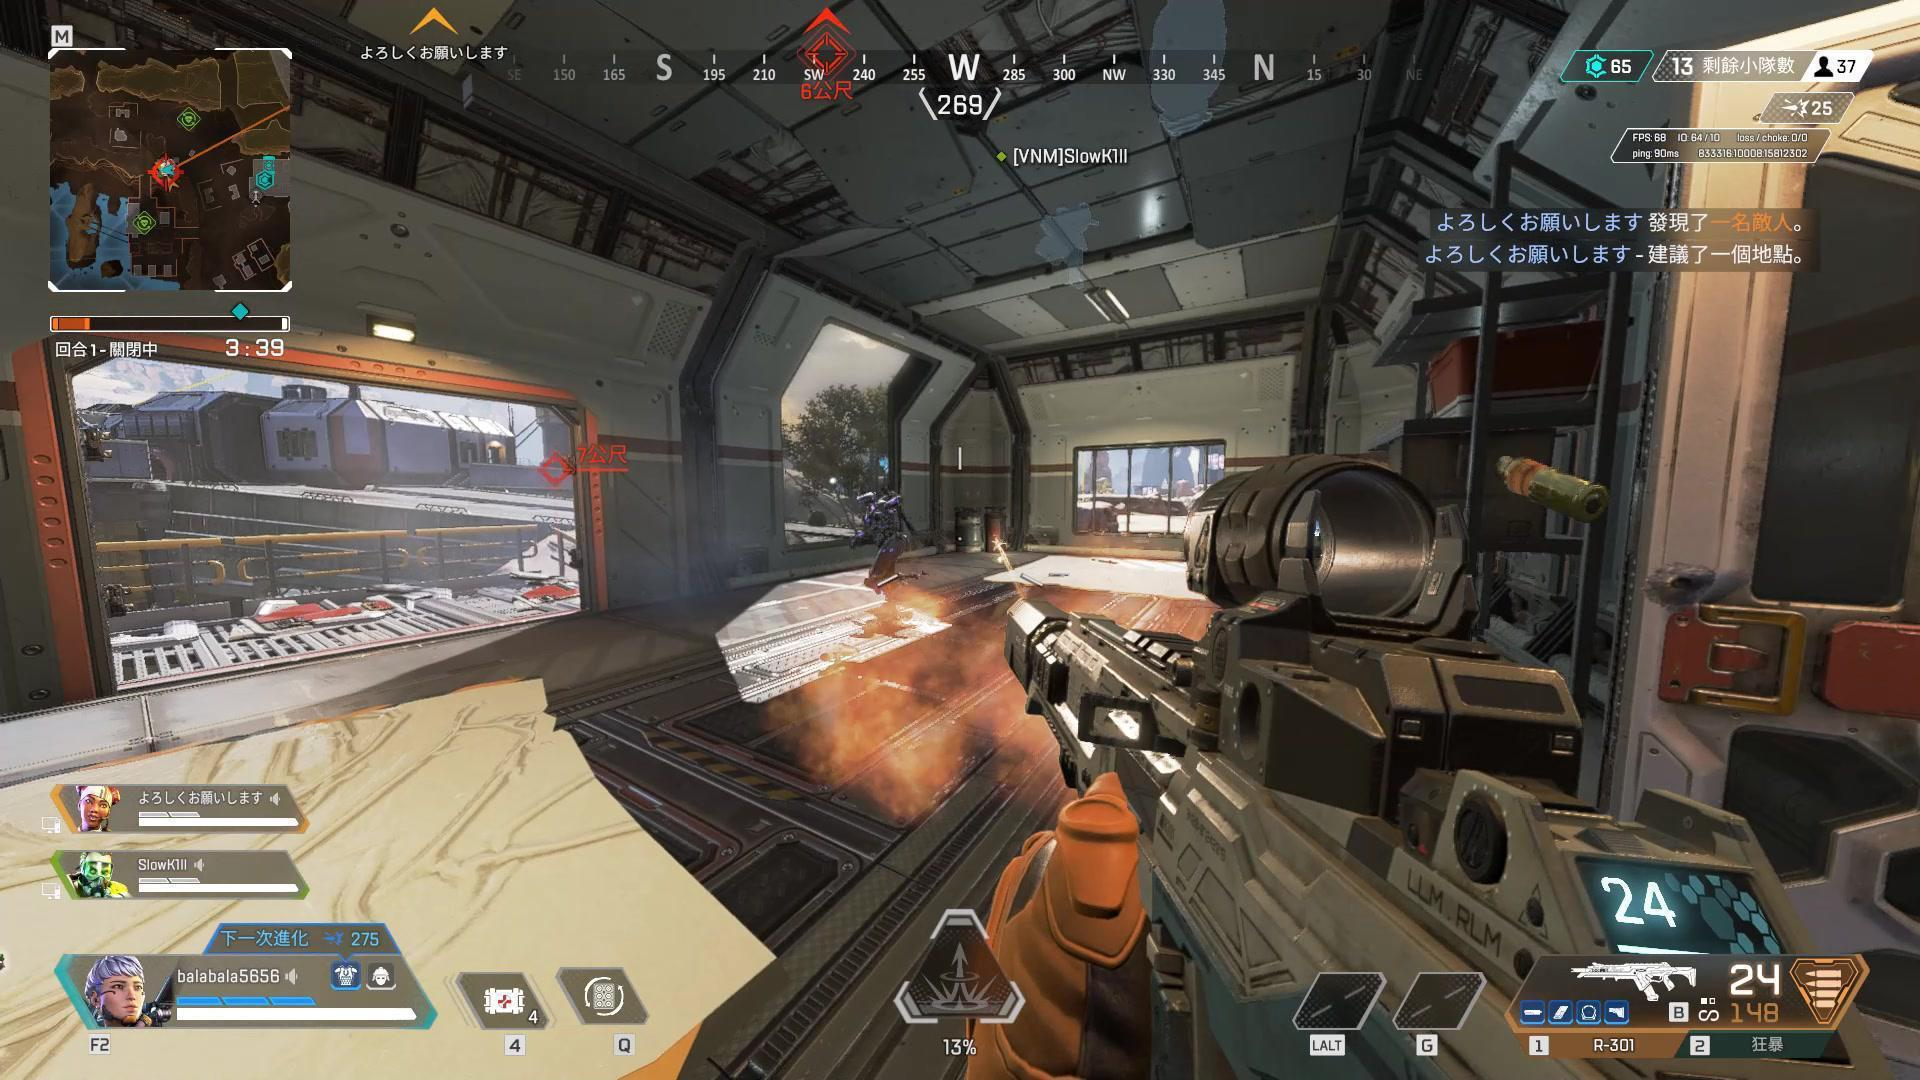avatar: (849, 487, 917, 606)
